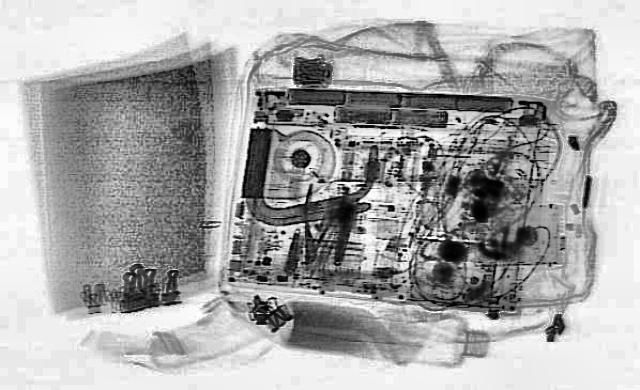Pliers: (288, 182, 346, 264)
